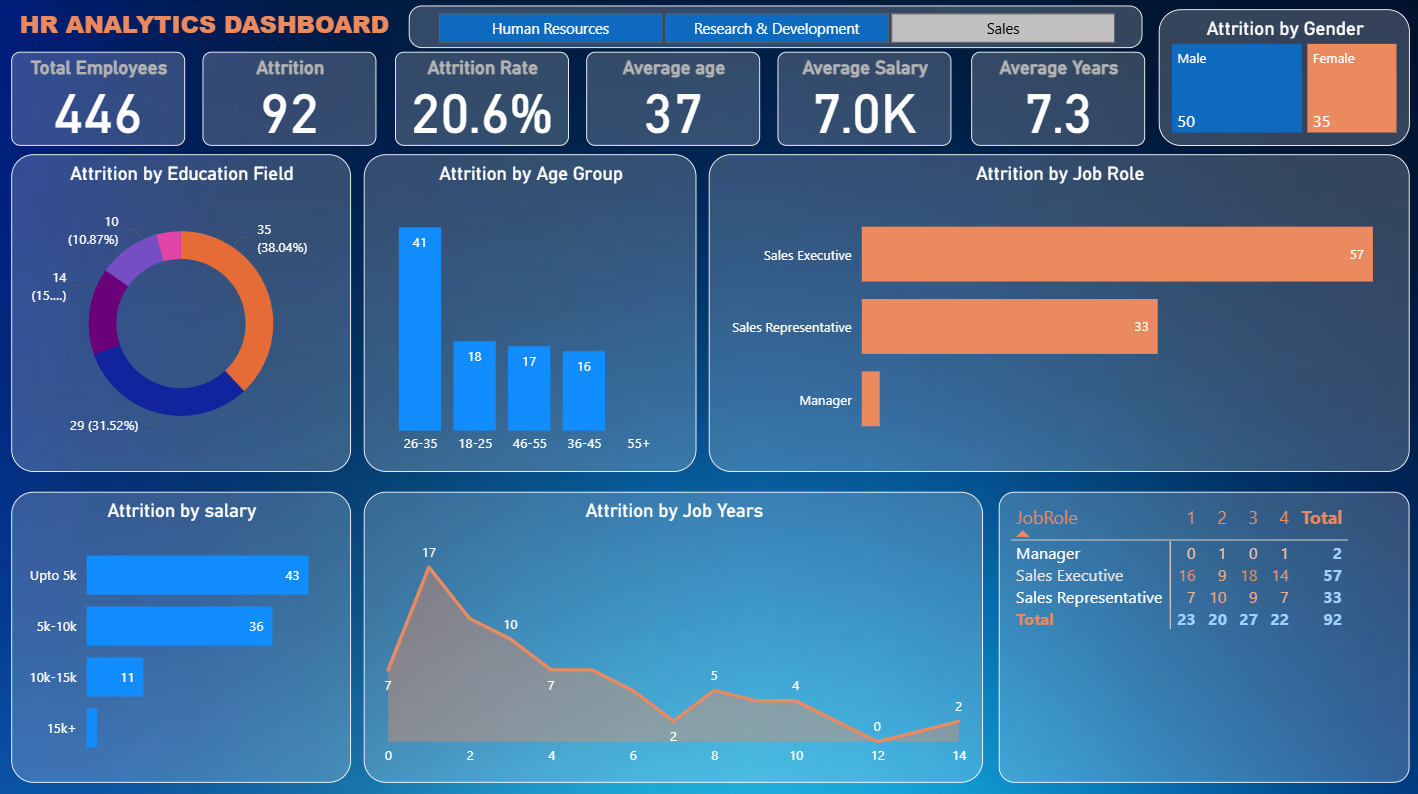

The page's visual inventory and layout, read from the dashboard file:
{"tool":"powerbi","page":{"name":"Page 1","canvas":[1280,720],"ordinal":0},"visuals":[{"type":"card","title":"Total Employees","fields":{"Values":["CountNonNull(HR_Analytics.EmpID)"]},"box":[10,48.5,156.7,84.6],"z":0},{"type":"card","title":"Attrition Rate","fields":{"Values":["HR_Analytics.attritionrate"]},"box":[355.8,48.5,156.7,84.6],"z":1000},{"type":"card","title":"Average age","fields":{"Values":["Avg(HR_Analytics.Age)"]},"box":[528.7,48.5,156.7,84.6],"z":2000},{"type":"card","title":"Average Salary","fields":{"Values":["Avg(HR_Analytics.MonthlyIncome)"]},"box":[701.6,48.5,156.7,84.6],"z":3000},{"type":"card","title":"Average Years","fields":{"Values":["Avg(HR_Analytics.YearsAtCompany)"]},"box":[875.7,48.5,156.7,84.6],"z":4000},{"type":"card","title":"Attrition","fields":{"Values":["HR_Analytics.attritionsum"]},"box":[182.9,48.5,156.7,84.6],"z":5000},{"type":"donutChart","title":"Attrition by Education Field","fields":{"Category":["HR_Analytics.EducationField"],"Y":["HR_Analytics.attritionsum"]},"box":[10,140.6,306,286.1],"z":6000},{"type":"columnChart","title":"Attrition by Age Group","fields":{"Category":["HR_Analytics.AgeGroup"],"Y":["Sum(HR_Analytics.attrition_num)"]},"box":[328.4,140.6,299.8,286.1],"z":7000},{"type":"pivotTable","fields":{"Values":["Sum(HR_Analytics.attrition_num)"],"Rows":["HR_Analytics.JobRole"],"Columns":["HR_Analytics.JobSatisfaction"]},"box":[900.6,445.3,370.7,262.5],"z":8000},{"type":"clusteredBarChart","title":"Attrition by salary","fields":{"Category":["HR_Analytics.SalarySlab"],"Y":["Sum(HR_Analytics.attrition_num)"]},"box":[10,445.3,306,262.5],"z":9000},{"type":"clusteredBarChart","title":"Attrition by Job Role","fields":{"Y":["Sum(HR_Analytics.attrition_num)"],"Category":["HR_Analytics.JobRole"]},"box":[639.4,140.6,631.9,286.1],"z":10000},{"type":"areaChart","title":"Attrition by Job Years","fields":{"Y":["Sum(HR_Analytics.attrition_num)"],"Category":["HR_Analytics.YearsAtCompany"]},"box":[328.4,445.3,558.5,262.5],"z":11000},{"type":"treemap","title":"Attrition by Gender","fields":{"Group":["HR_Analytics.Gender"],"Values":["Sum(HR_Analytics.attrition_num)"]},"box":[1044.9,10,226.4,123.2],"z":11001},{"type":"slicer","fields":{"Values":["HR_Analytics.Department"]},"box":[368.2,6.2,661.8,38.6],"z":11002},{"type":"textbox","box":[0,0,368.2,48.5],"z":11003}]}

Visuals, with their boxes in screenshot pixels (x1, y1, x2, y2), scaled from the page's 1280x720 canvas onto the 1418x794 screenshot:
"Total Employees" card: {"left": 11, "top": 53, "right": 185, "bottom": 147}
"Attrition Rate" card: {"left": 394, "top": 53, "right": 568, "bottom": 147}
"Average age" card: {"left": 586, "top": 53, "right": 759, "bottom": 147}
"Average Salary" card: {"left": 777, "top": 53, "right": 951, "bottom": 147}
"Average Years" card: {"left": 970, "top": 53, "right": 1144, "bottom": 147}
"Attrition" card: {"left": 203, "top": 53, "right": 376, "bottom": 147}
"Attrition by Education Field" donutChart: {"left": 11, "top": 155, "right": 350, "bottom": 471}
"Attrition by Age Group" columnChart: {"left": 364, "top": 155, "right": 696, "bottom": 471}
pivotTable - Sum(HR_Analytics.attrition_num) x HR_Analytics.JobRole: {"left": 998, "top": 491, "right": 1408, "bottom": 781}
"Attrition by salary" clusteredBarChart: {"left": 11, "top": 491, "right": 350, "bottom": 781}
"Attrition by Job Role" clusteredBarChart: {"left": 708, "top": 155, "right": 1408, "bottom": 471}
"Attrition by Job Years" areaChart: {"left": 364, "top": 491, "right": 983, "bottom": 781}
"Attrition by Gender" treemap: {"left": 1158, "top": 11, "right": 1408, "bottom": 147}
slicer - HR_Analytics.Department: {"left": 408, "top": 7, "right": 1141, "bottom": 49}
textbox: {"left": 0, "top": 0, "right": 408, "bottom": 53}
